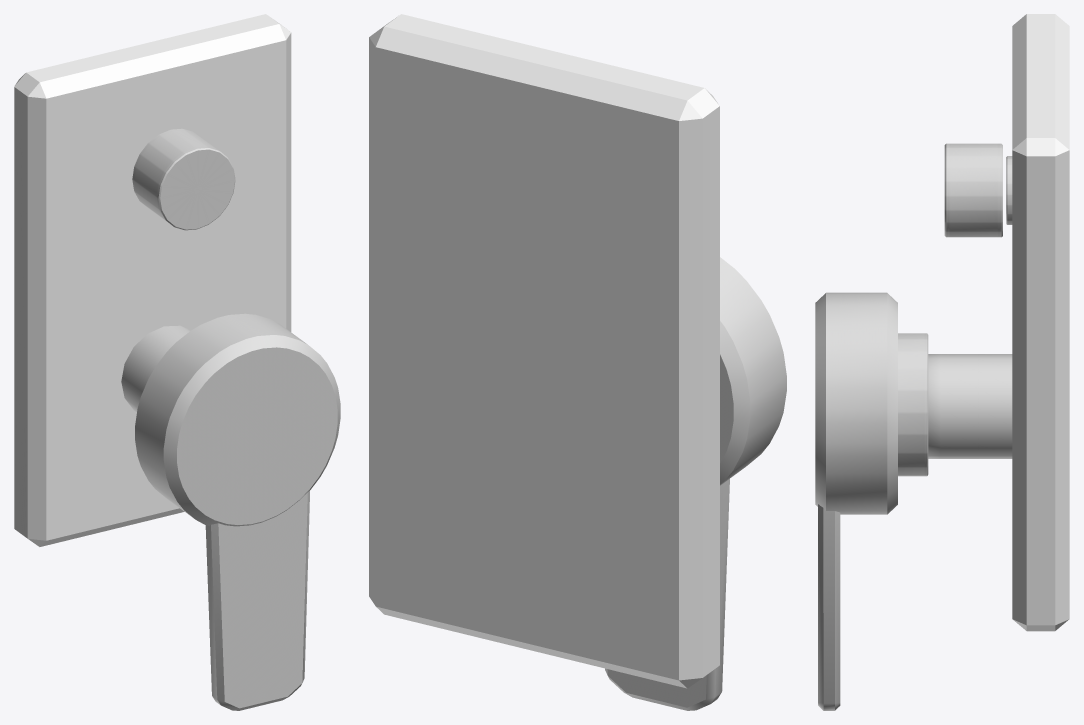
The model's file is Shower_Knob.fbx.
3 renders of one model, left to right at view 1: azimuth 30°, elevation 25°; view 2: azimuth 150°, elevation 25°; view 3: azimuth 270°, elevation 25°, orthographic. The views are drawn at different scales.
Parts seen in each view (by area): view 1: Panel, Knobs; view 2: Panel, Knobs; view 3: Knobs, Panel.
Boxes of the visible parts, bbox=[...] form: Panel: bbox=[14, 14, 291, 546]; Knobs: bbox=[121, 128, 340, 710]; Panel: bbox=[369, 14, 719, 688]; Knobs: bbox=[605, 257, 786, 710]; Knobs: bbox=[815, 143, 1012, 710]; Panel: bbox=[1012, 14, 1069, 631].
Bounding box in the file's own units: 32.49 × 68.74 × 25.57.
2 materials, 2 textured.
